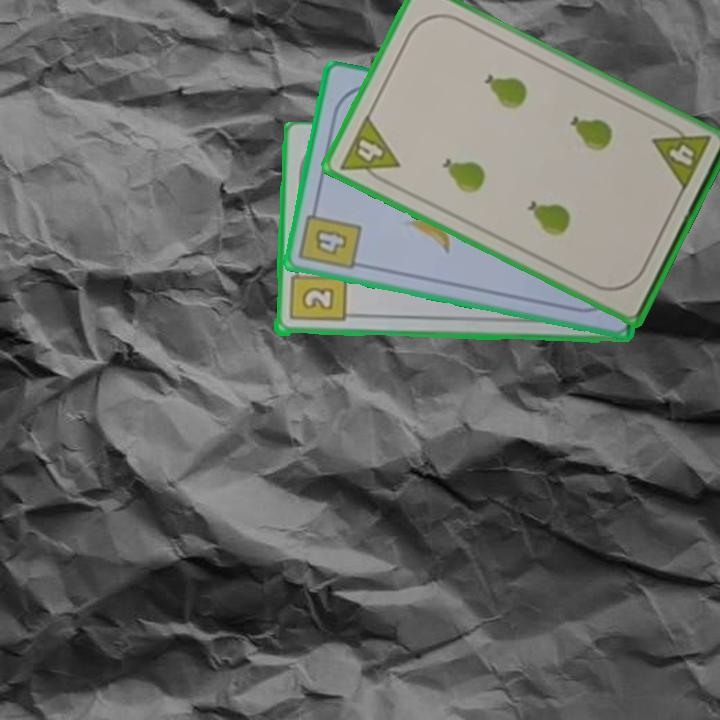2b: (286, 262, 348, 325)
4b: (296, 201, 364, 273)
4p: (336, 112, 403, 189), (649, 117, 713, 195)
